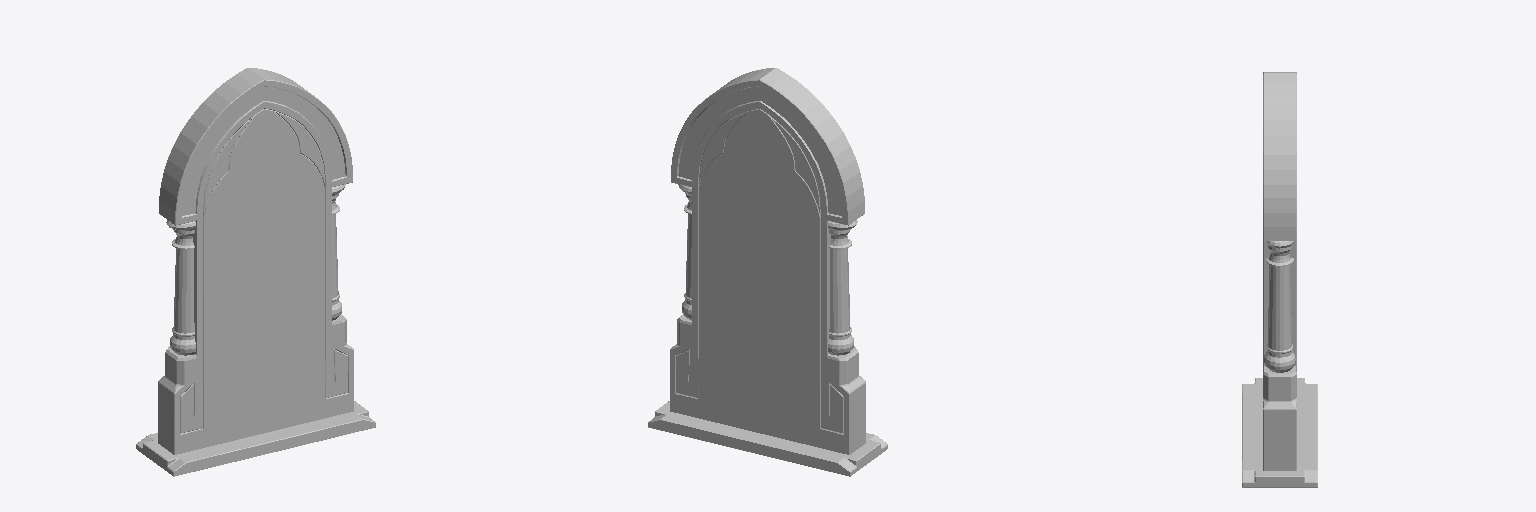
The model's file is gravestoneb.obj.
3 views of the same model, side by side, from view 1: azimuth 30°, elevation 25°; view 2: azimuth 150°, elevation 25°; view 3: azimuth 270°, elevation 25° (orthographic).
Parts seen in each view (by area): view 1: gravestone_02:gravestone2; view 2: gravestone_02:gravestone2; view 3: gravestone_02:gravestone2.
Part boxes in pixels (x1,y1,x2,y2): gravestone_02:gravestone2: (136, 68, 375, 476); gravestone_02:gravestone2: (648, 68, 887, 476); gravestone_02:gravestone2: (1242, 72, 1317, 487).
Bounding box in the file's own units: 3.35 × 5.77 × 1.09.